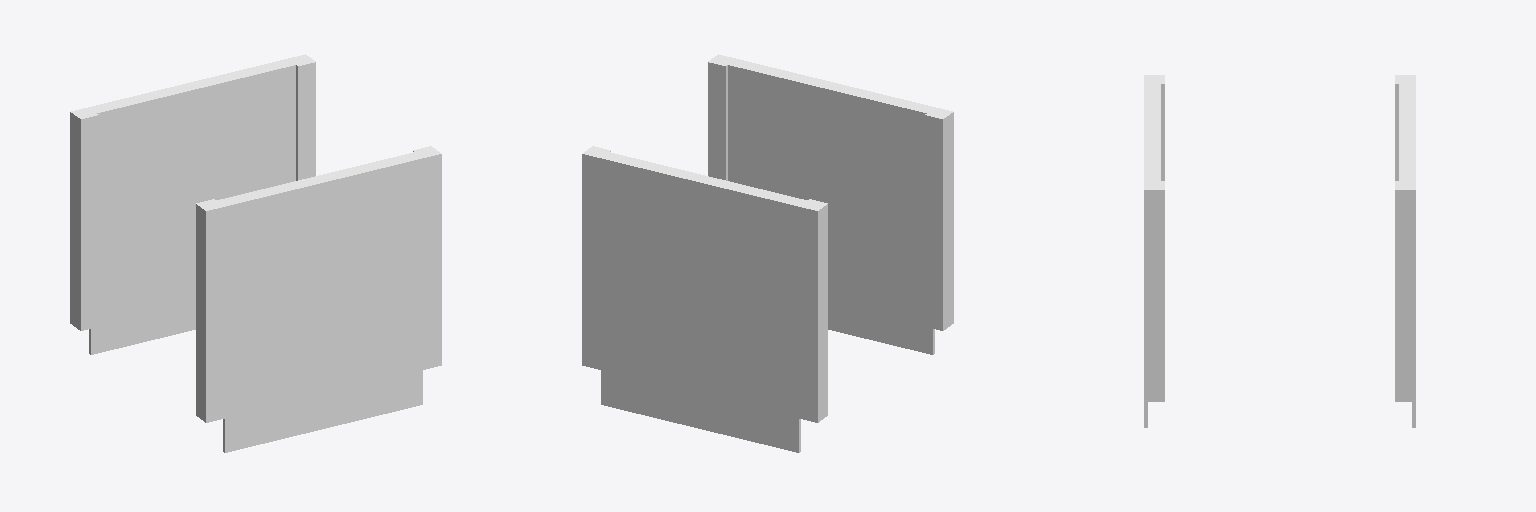
File: Wall-1010.obj
3 renders of one model, left to right at view 1: azimuth 30°, elevation 25°; view 2: azimuth 150°, elevation 25°; view 3: azimuth 270°, elevation 25°, orthographic.
Size of the model in its own units: 64 by 64 by 64.